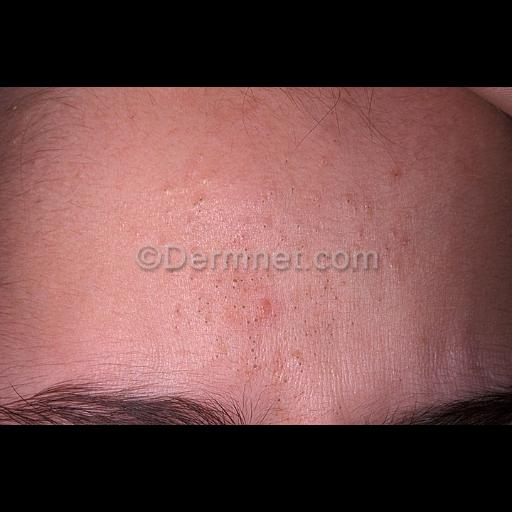Skin_Lesion: (172, 296, 212, 330), (217, 271, 273, 287), (256, 294, 274, 320), (246, 326, 260, 358), (289, 222, 317, 236), (290, 349, 310, 367), (256, 220, 274, 240), (268, 356, 282, 380), (232, 234, 246, 258), (224, 294, 244, 310), (190, 196, 208, 212), (156, 182, 172, 200), (243, 360, 261, 376), (260, 186, 274, 206), (304, 318, 316, 340), (323, 278, 335, 298), (322, 148, 334, 166), (389, 167, 401, 185), (360, 206, 376, 218), (209, 352, 223, 364), (340, 196, 354, 206), (400, 234, 410, 248), (324, 320, 336, 330), (290, 182, 296, 198), (284, 158, 292, 166), (384, 246, 390, 252), (291, 308, 297, 310)
